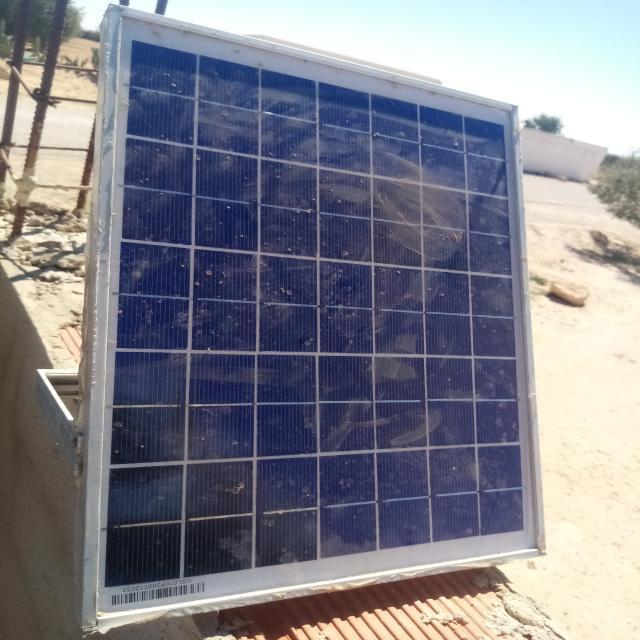Surface Contaminant: (143, 68, 307, 443), (320, 138, 489, 496), (159, 450, 360, 559)
